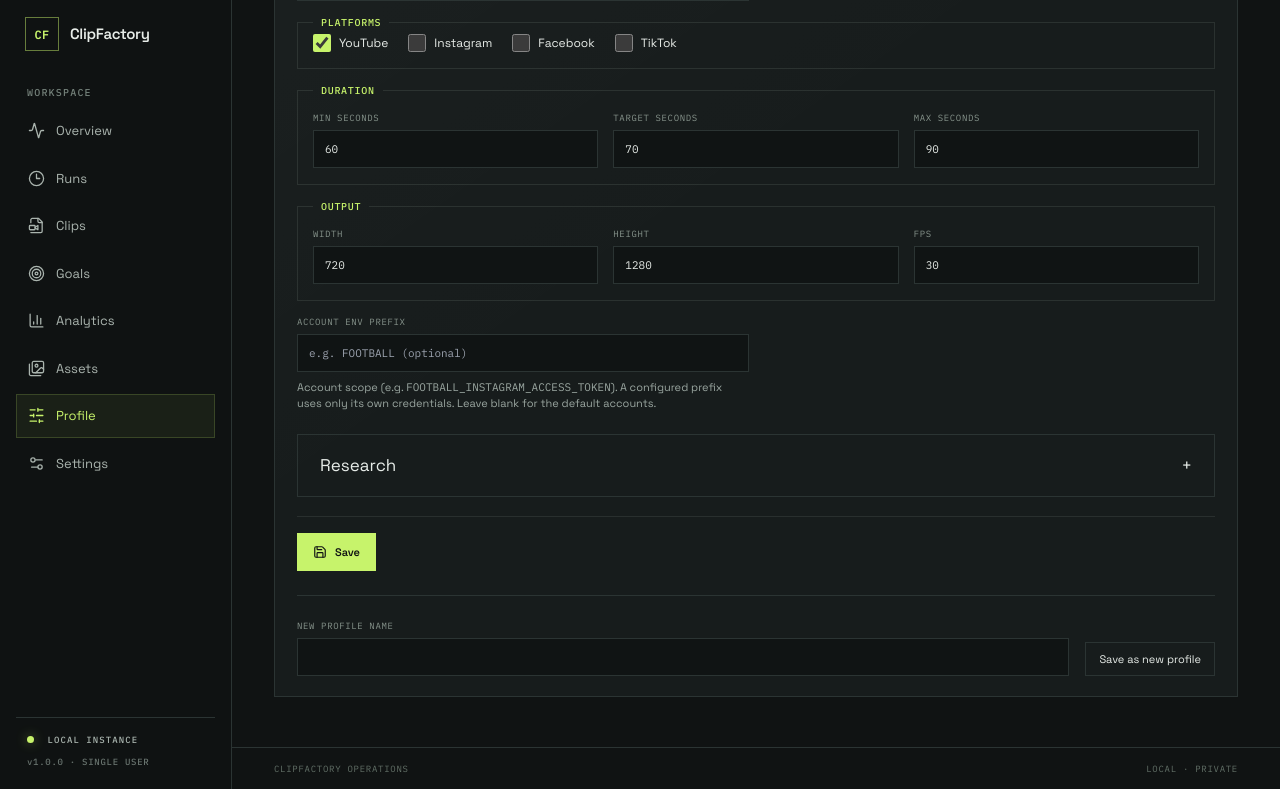
Test: Content Profile Research and Settings groups › CF-REQ-607 CF-REQ-100 shows one dedicated Research section with limits, feeds, publisher tiers, novelty and byte controls
The image size is (1280, 789).
(page scrolled)
Step 1. Click the button "Research +" → click(358, 465), box [298, 435, 1214, 496]
(page scrolled)
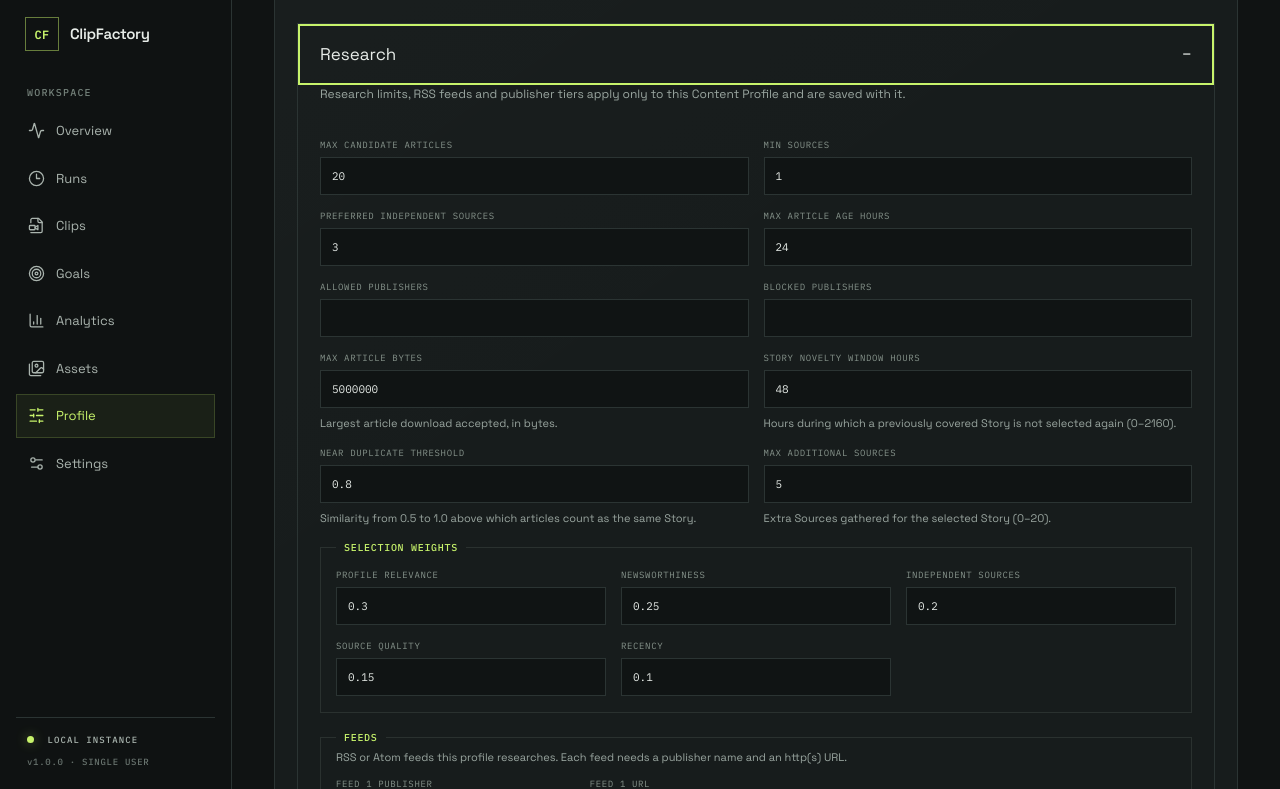
Check: the button "Research −" is expanded, box [298, 24, 1214, 85]
Check: the number of number fields labelled "Min Sources" is 1, box [764, 157, 1192, 195]
Check: the number of number fields labelled "Preferred Independent Sources" is 1, box [320, 228, 748, 266]
